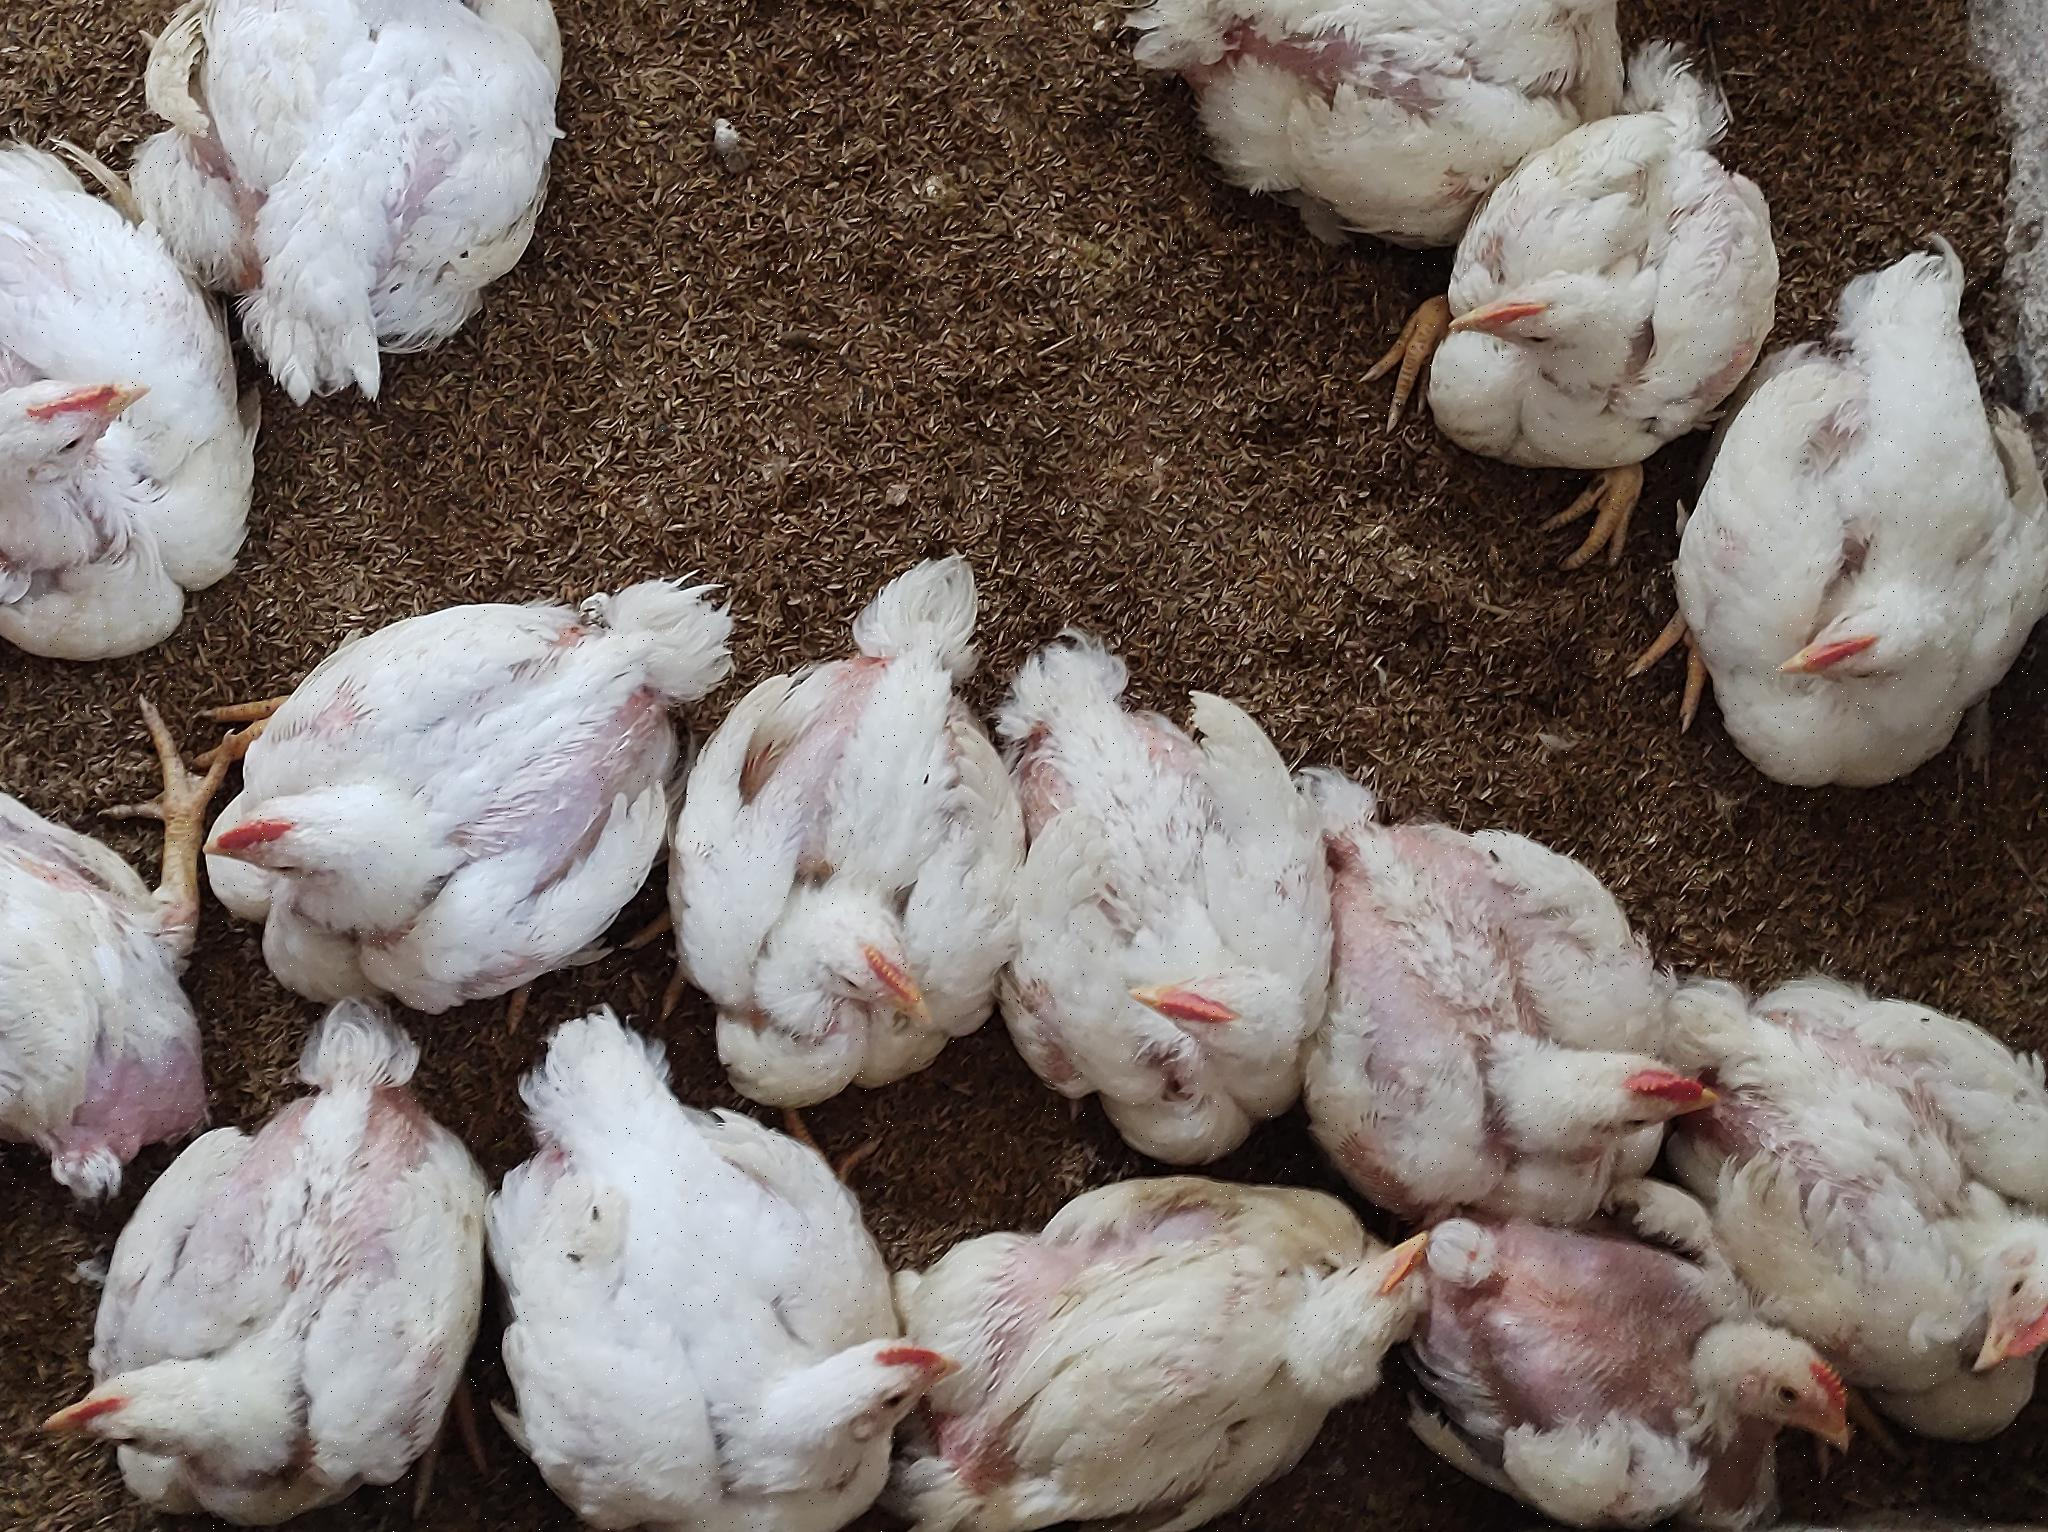Pollos: (460, 1033, 940, 1521), (849, 1181, 1485, 1521), (679, 459, 1010, 1093), (204, 546, 661, 1003), (71, 1033, 494, 1509), (1404, 92, 1844, 491), (1018, 616, 1330, 1157), (1728, 929, 2048, 1450), (138, 2, 561, 391), (2, 145, 269, 657), (1395, 1231, 1849, 1522), (1330, 814, 1676, 1184), (1145, 2, 1626, 257), (2, 713, 196, 1192)
